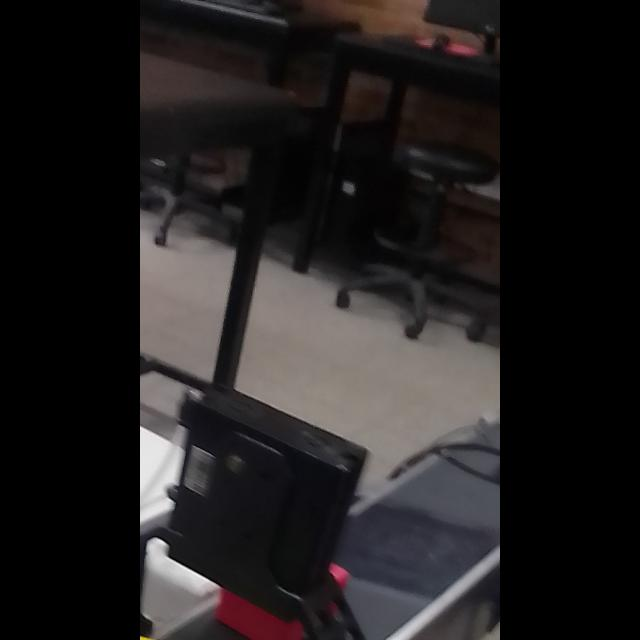redBox: (202, 524, 364, 640)
yellowBox: (140, 622, 226, 640)
